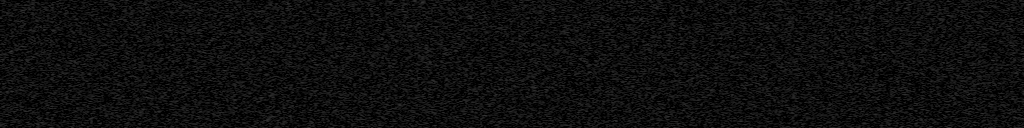wv_am: (12, 0, 17, 128), (32, 0, 37, 117), (32, 118, 37, 128)
wv_cw: (0, 0, 5, 128)
wv_usb: (0, 65, 4, 122), (4, 36, 8, 62), (0, 2, 4, 23), (4, 83, 8, 103), (0, 41, 4, 60), (4, 18, 8, 35), (4, 1, 8, 17), (4, 63, 8, 79), (0, 24, 4, 32), (0, 33, 4, 40), (4, 107, 8, 113), (0, 123, 4, 128), (0, 61, 4, 64), (4, 123, 8, 126), (4, 118, 8, 121), (4, 114, 8, 117)
wv_wbfm: (35, 0, 51, 128)
